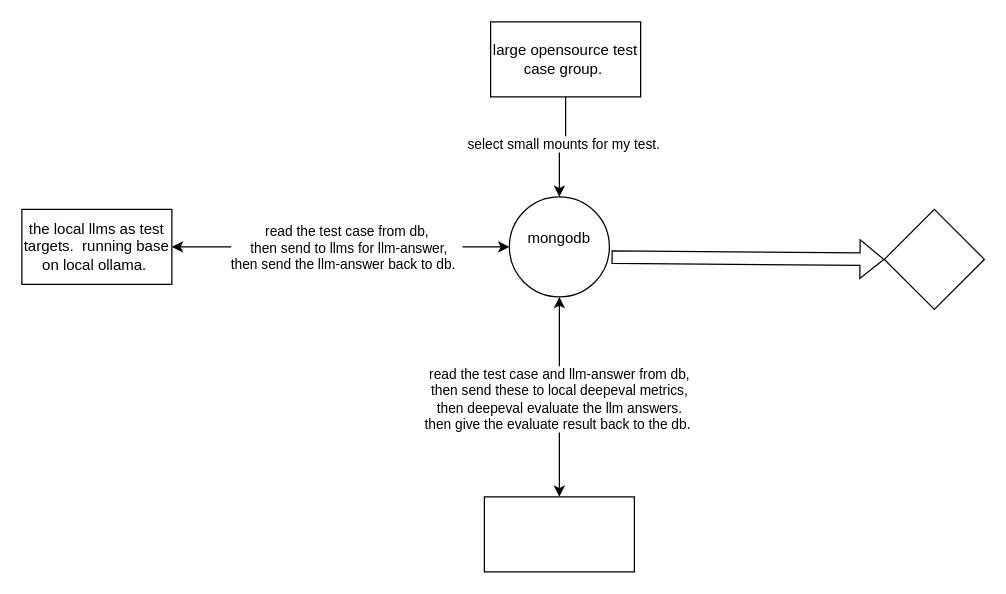
This 1006x594 diagram has some shape labels left out. Each missing label, with the centre of its shape:
"something like etl, for collected data's ` visualizatoin." goes at point 933,258.
"the deepeval metrics for evaluating these llms" goes at point 558,534.
